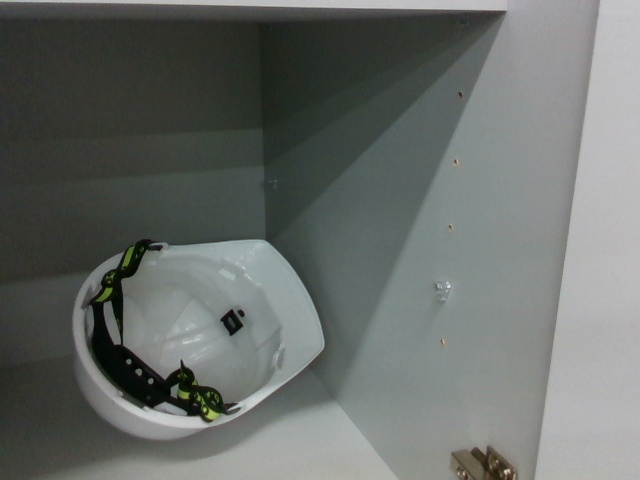helmet: (52, 226, 331, 445)
